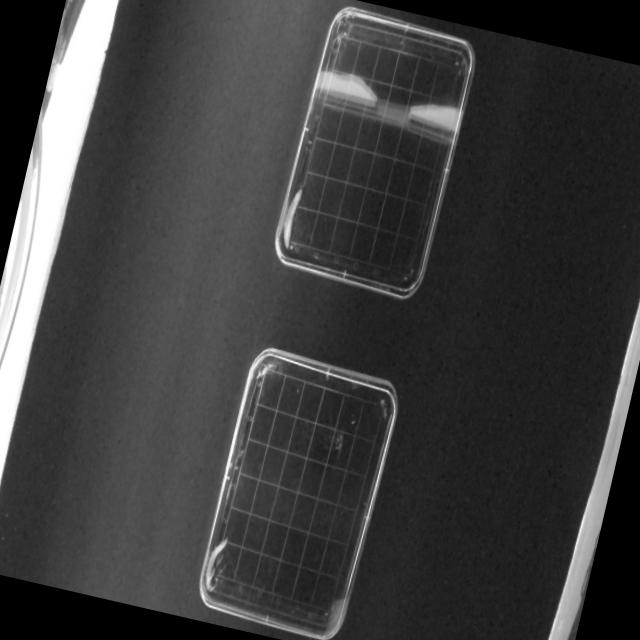larva: (278, 183, 308, 252), (202, 534, 228, 592)
